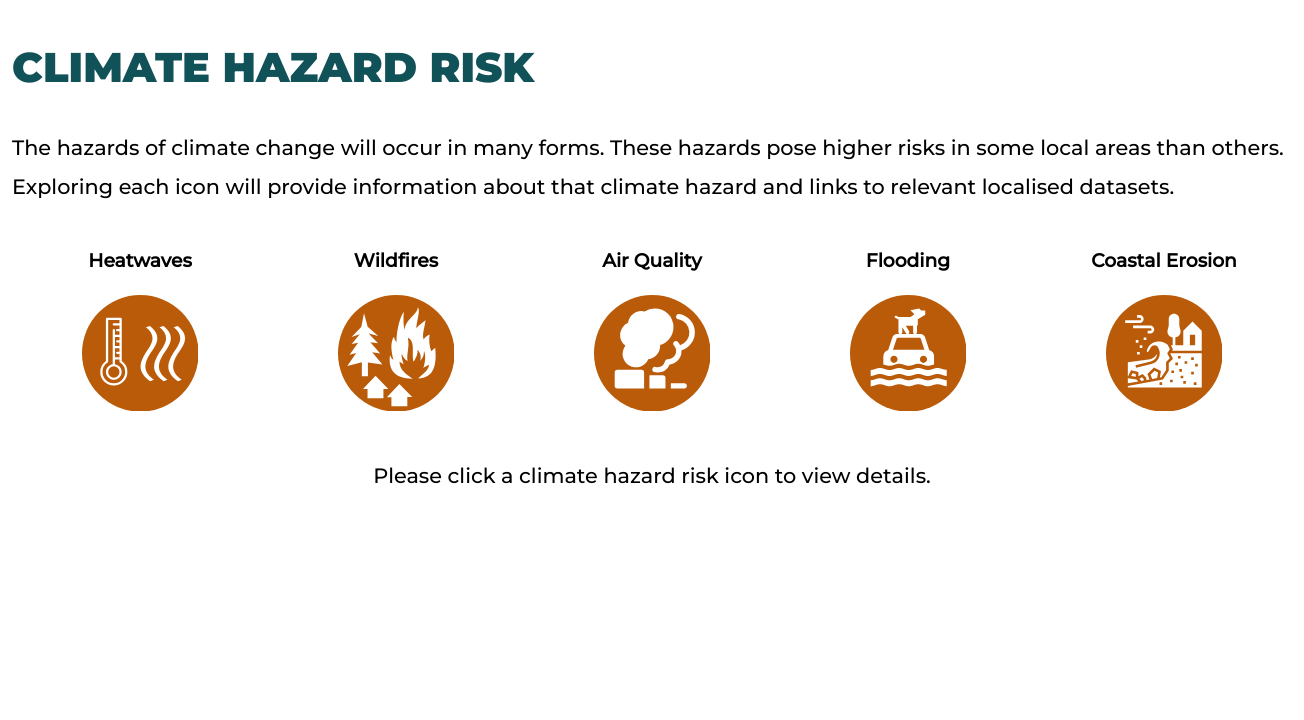
Test: ClimateHazardRisk › shows details for the clicked hazard
What coordinates should you click on to do the following:
click the button "Heatwaves"
I would click on:
 (140, 320)
Its box is [12,228,268,412].
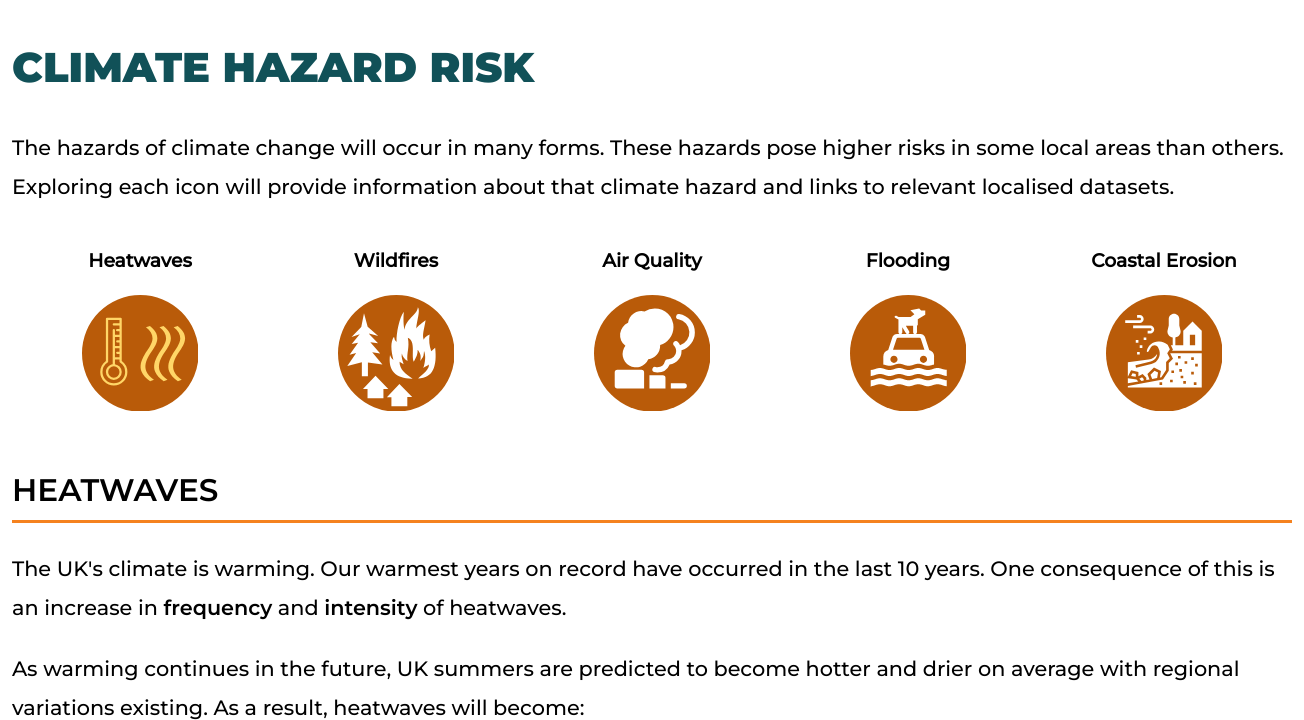
Now the heading "Heatwaves" is shown, box [12,461,1292,523]
Now the text "Please click a climate hazard risk icon" is gone
